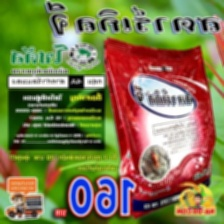insecticide: (100, 35, 217, 222)
